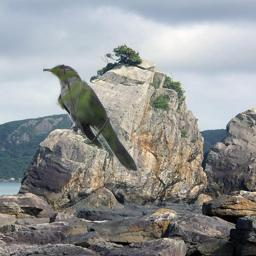Cuckoo: (43, 64, 142, 172)
